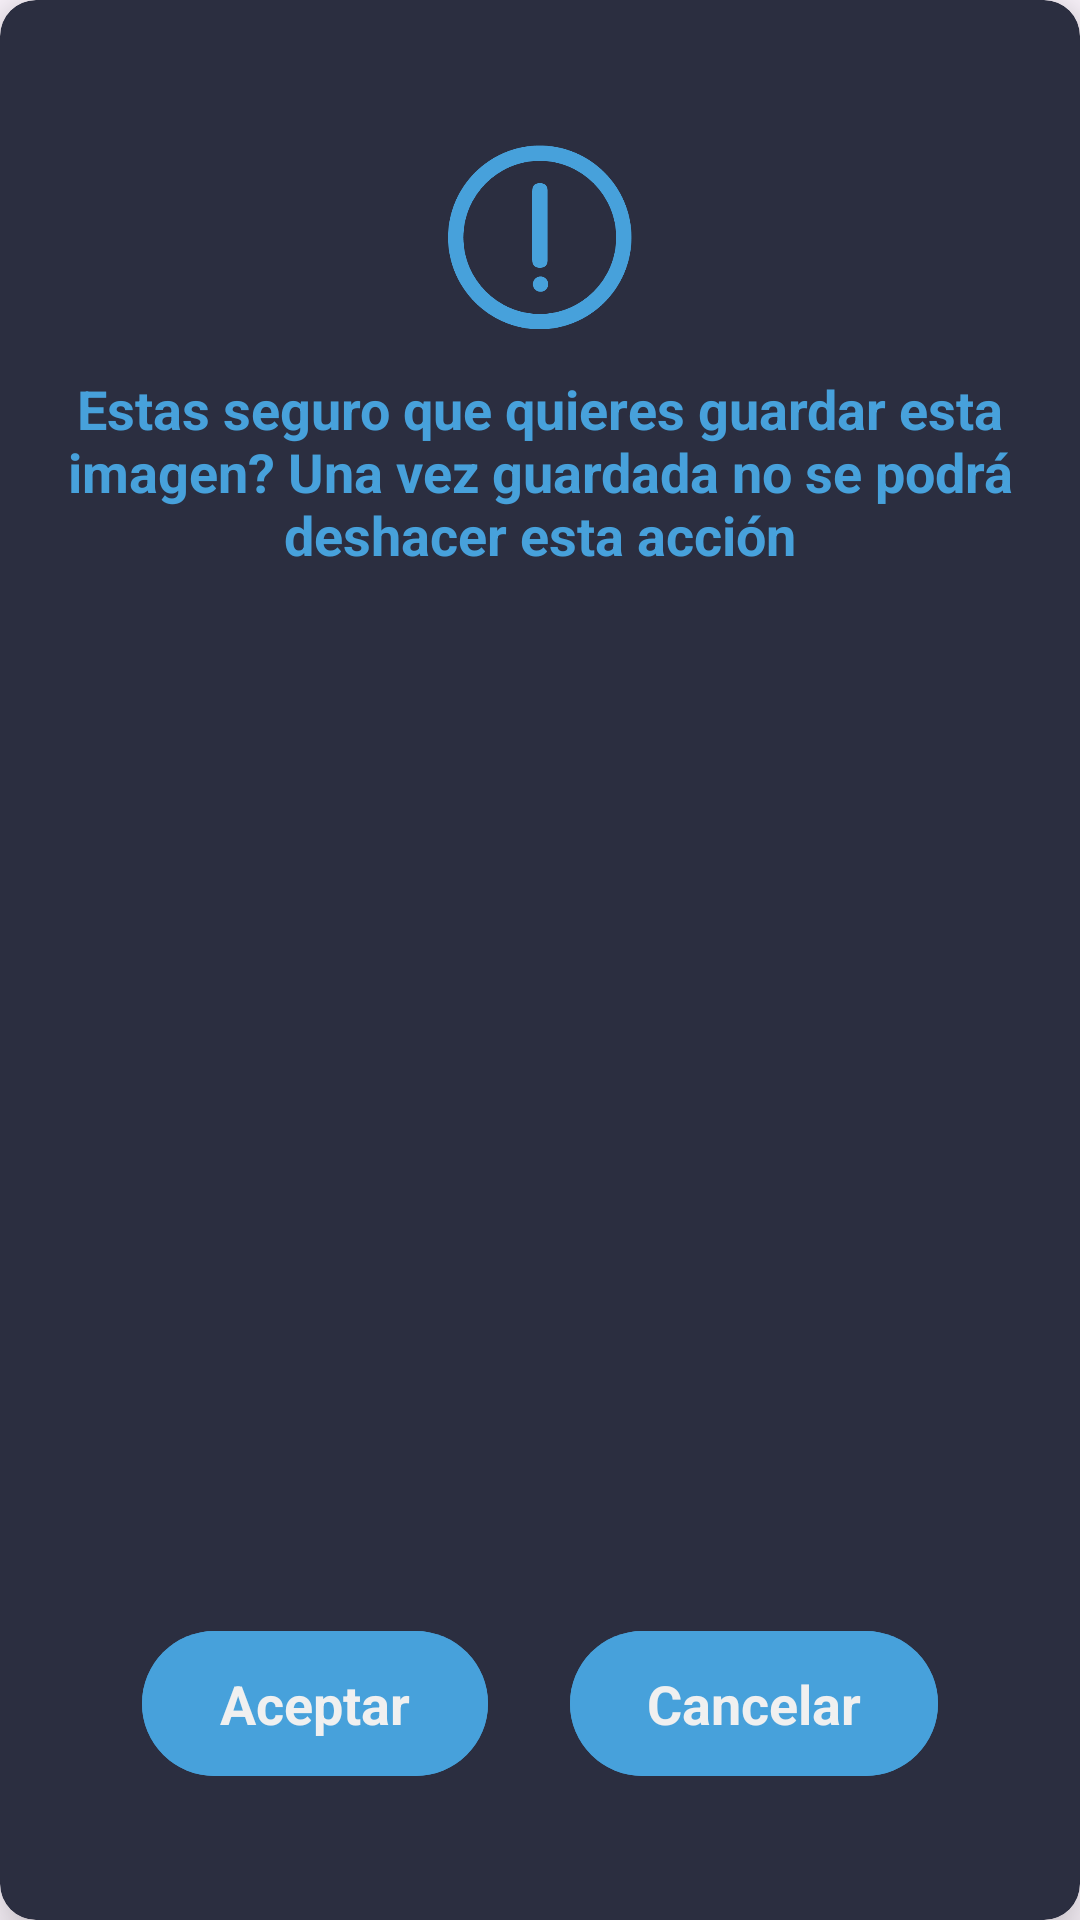

Icons on this 1080×1920 Android screen, each with the point to tap as point (x, y):
warning: point (540, 237)
